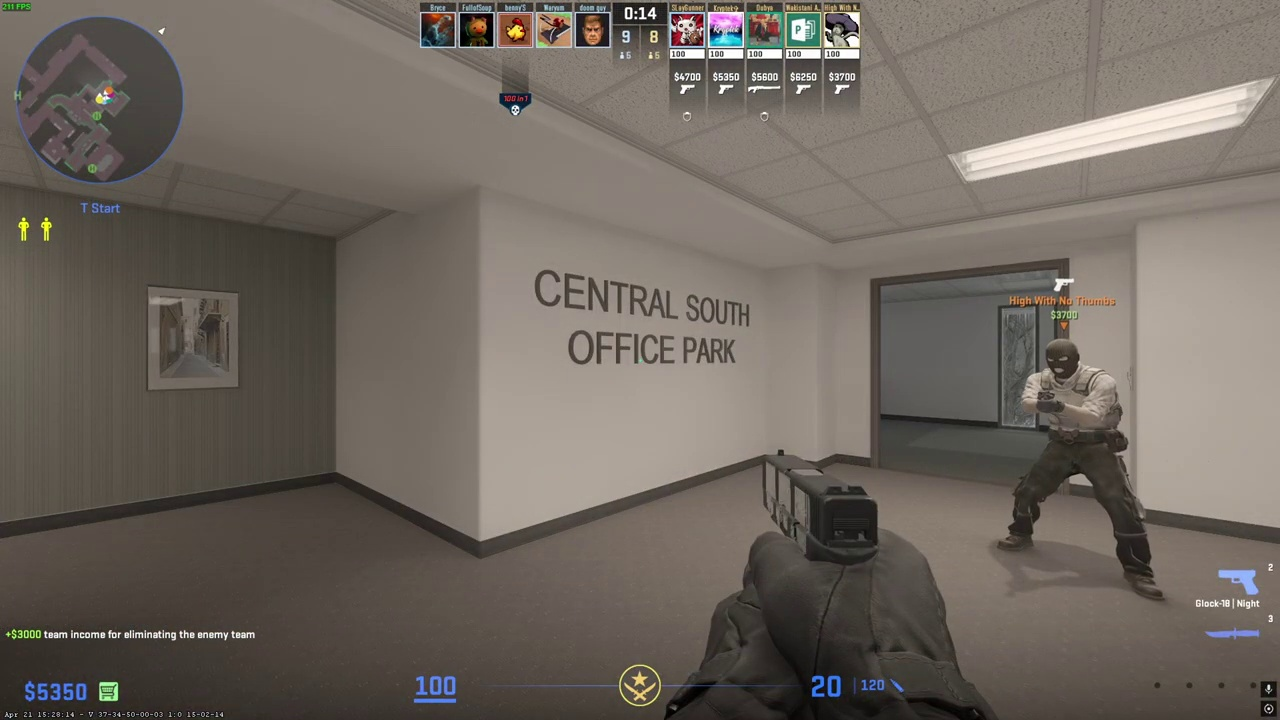Terrorist: (1007, 340, 1155, 600)
